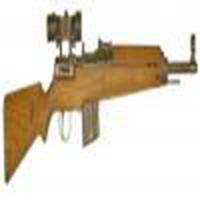gun: (3, 12, 198, 184)
